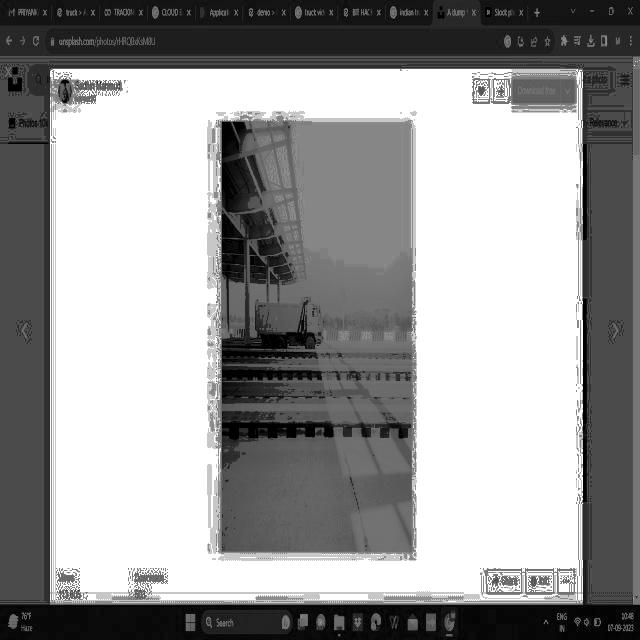HCV: (248, 267, 336, 362)
